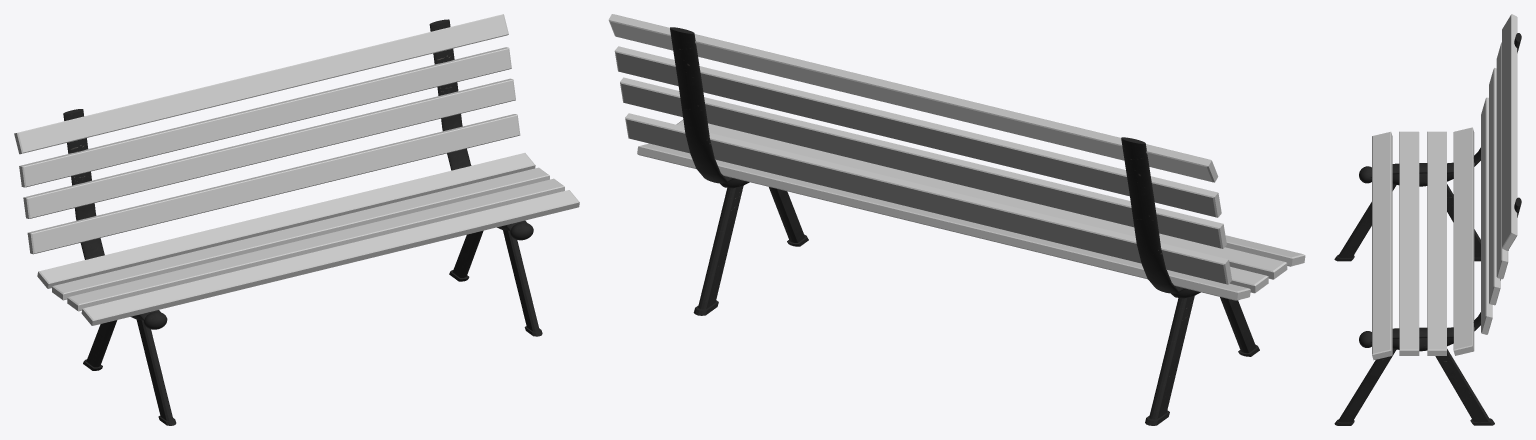
File: Banco Pog.fbx
3 views of the same model, side by side, from view 1: azimuth 30°, elevation 25°; view 2: azimuth 150°, elevation 25°; view 3: azimuth 270°, elevation 25° (orthographic). The views are drawn at different scales.
Visible parts, largest first — view 1: pCube9; view 2: pCube9; view 3: pCube9.
Boxes of the visible parts, x1,y1,x2,y2 form: pCube9: (14, 14, 579, 425); pCube9: (608, 14, 1305, 425); pCube9: (1334, 14, 1521, 425).
Bounding box in the file's own units: 11.43 × 5.4 × 4.13.
